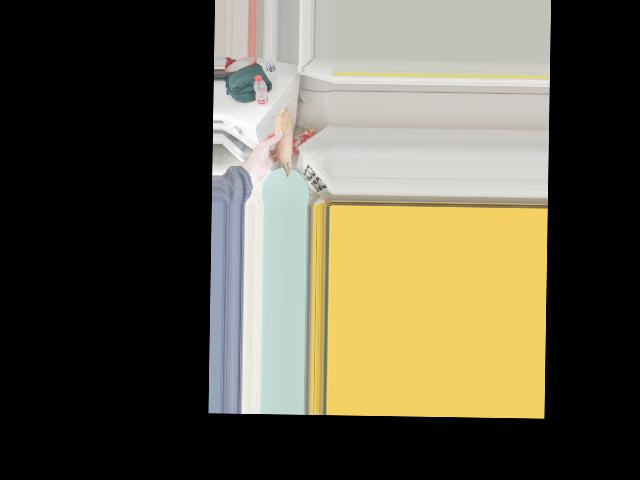sweet_potato: (269, 112, 294, 178)
